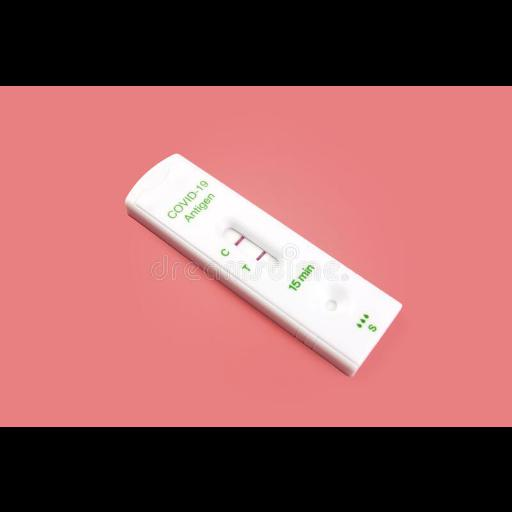Pos: (124, 148, 406, 373)
